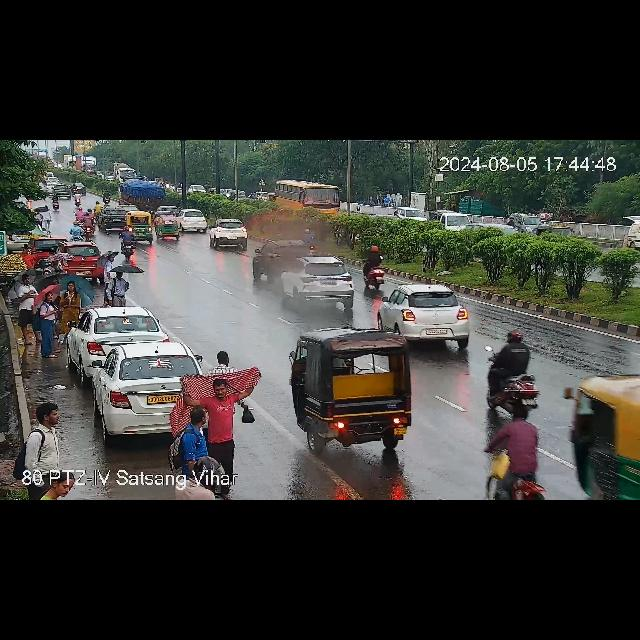bus: (274, 178, 342, 215)
car: (294, 323, 422, 451), (556, 366, 638, 499), (92, 344, 198, 436), (380, 282, 476, 344), (72, 306, 162, 366), (278, 256, 358, 306), (61, 243, 109, 277), (207, 222, 249, 250), (126, 212, 158, 240), (154, 210, 182, 242), (100, 206, 132, 232), (176, 208, 208, 232), (623, 209, 640, 252)
motorcycle: (479, 332, 543, 418), (485, 404, 541, 501), (361, 247, 394, 291), (14, 194, 64, 212), (120, 228, 140, 258), (68, 222, 86, 240), (69, 182, 87, 196), (70, 194, 86, 208), (84, 213, 92, 237), (102, 188, 110, 204), (75, 208, 83, 220)
person: (18, 403, 68, 495), (210, 376, 242, 470), (184, 402, 212, 466), (181, 464, 227, 501), (36, 287, 56, 359), (58, 280, 78, 350), (18, 272, 34, 344), (100, 255, 118, 301), (208, 346, 232, 376), (112, 271, 128, 307), (22, 247, 38, 269), (42, 204, 52, 234), (40, 257, 50, 277), (49, 280, 57, 284)
truck: (123, 180, 167, 210)
